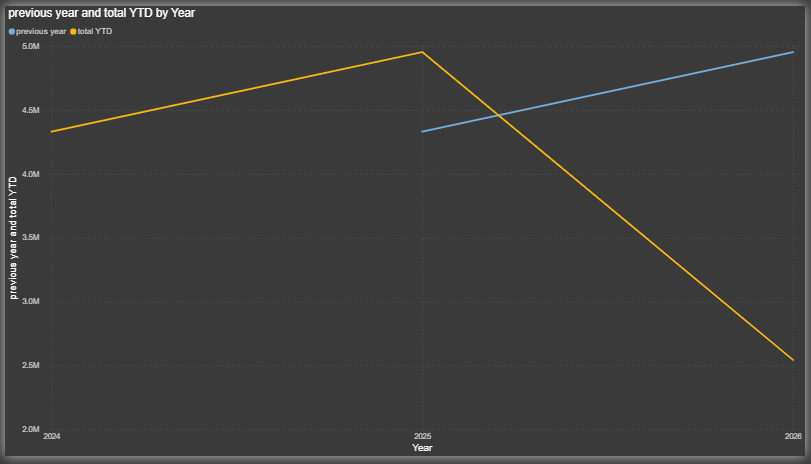

The dashboard page shown, as its layout file describes it:
{"tool":"powerbi","page":{"name":"sales over the year","canvas":[1280,720],"ordinal":2},"visuals":[{"type":"lineChart","fields":{"Y":["Dim Calendar.previous year","FactSales.total YTD"],"Category":["Dim Calendar.Year"]},"box":[0,0,1280,720],"z":0}]}

Visuals, with their boxes in screenshot pixels (x1, y1, x2, y2), scaled from the page's 1280x720 canvas onto the 811x464 screenshot:
lineChart - Dim Calendar.previous year x FactSales.total YTD: 0,0,810,463
